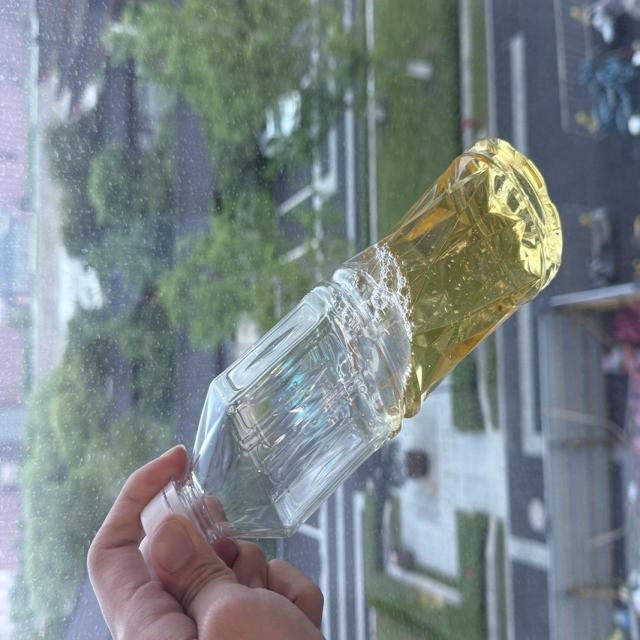medium: (142, 139, 561, 541)
